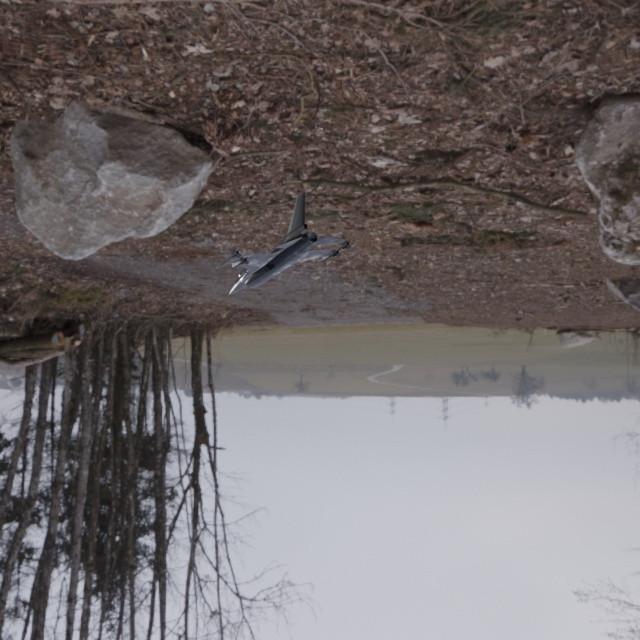model: (169, 190, 372, 310)
